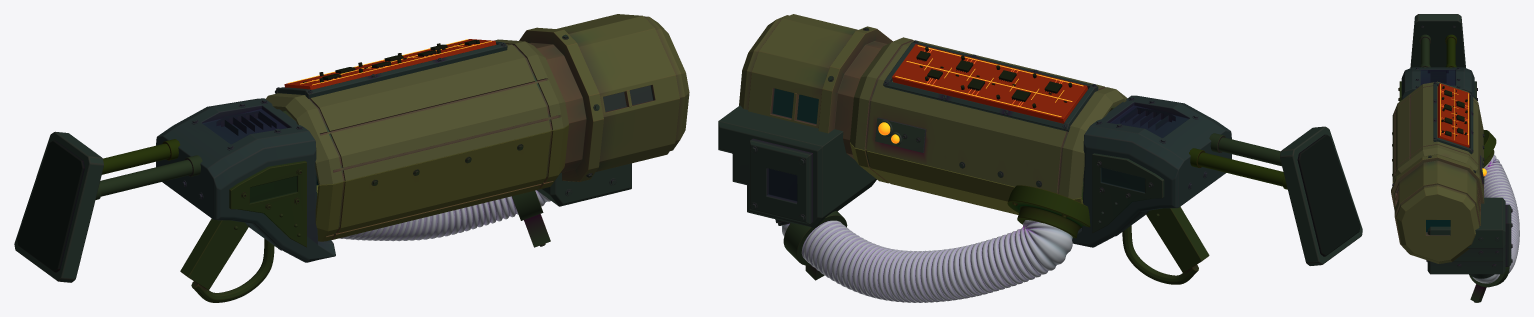
Rendered from railgun.6393e8d6.glb.
3 renders of one model, left to right at view 1: azimuth 30°, elevation 25°; view 2: azimuth 150°, elevation 25°; view 3: azimuth 270°, elevation 25°, orthographic. The views are drawn at different scales.
Parts seen in each view (by area): view 1: xv_shell_top, xv_muzzle_cap, xv_shell_bottom, xv_rear_housing, xv_butt_plate, xv_rear_cover_right, xv_trigger, xv_hose, xv_circuit_panel, xv_muzzle_fitting, xv_panel_bezel, xv_stock_rod_right (+2 smaller); view 2: xv_shell_top, xv_hose, xv_muzzle_cap, xv_muzzle_fitting, xv_rear_housing, xv_circuit_panel, xv_butt_plate, xv_shell_bottom, xv_rear_cover_left, xv_trigger, xv_hose_clamp_rear, xv_panel_bezel (+3 smaller); view 3: xv_muzzle_cap, xv_shell_top, xv_muzzle_fitting, xv_butt_plate, xv_circuit_panel, xv_hose, xv_rear_housing, xv_panel_bezel, xv_hose_clamp_front, xv_hose_clamp_rear, xv_stock_rod_left, xv_stock_rod_right.
Boxes of the visible parts, x1,y1,x2,y2 form: xv_shell_top: (266,39,568,184); xv_muzzle_cap: (519,14,689,181); xv_shell_bottom: (315,124,568,241); xv_rear_housing: (156,98,335,262); xv_butt_plate: (14,131,103,282); xv_rear_cover_right: (229,161,306,247); xv_trigger: (180,218,274,302); xv_hose: (339,190,550,241); xv_circuit_panel: (284,39,496,89); xv_muzzle_fitting: (537,163,631,206); xv_panel_bezel: (275,41,507,98); xv_stock_rod_right: (95,155,202,199); xv_shell_top: (850,37,1127,199); xv_hose: (782,220,1072,302); xv_muzzle_cap: (739,14,892,159); xv_muzzle_fitting: (718,105,876,228); xv_rear_housing: (1072,95,1231,247); xv_circuit_panel: (892,44,1087,123); xv_butt_plate: (1280,126,1362,265); xv_shell_bottom: (850,142,1083,214); xv_rear_cover_left: (1092,153,1164,233); xv_trigger: (1122,206,1209,284); xv_hose_clamp_rear: (1007,185,1090,238); xv_panel_bezel: (883,40,1098,131); xv_muzzle_cap: (1391,154,1484,263); xv_shell_top: (1392,81,1484,197); xv_muzzle_fitting: (1426,197,1512,278); xv_butt_plate: (1410,14,1465,67); xv_circuit_panel: (1437,83,1469,147); xv_hose: (1472,154,1519,283); xv_rear_housing: (1401,67,1474,99); xv_panel_bezel: (1433,82,1473,154); xv_hose_clamp_front: (1469,267,1509,302); xv_hose_clamp_rear: (1483,130,1496,167); xv_stock_rod_left: (1445,34,1456,67); xv_stock_rod_right: (1419,34,1430,67).
Size of the model in its own units: 1.2 by 0.4606 by 0.3671.
